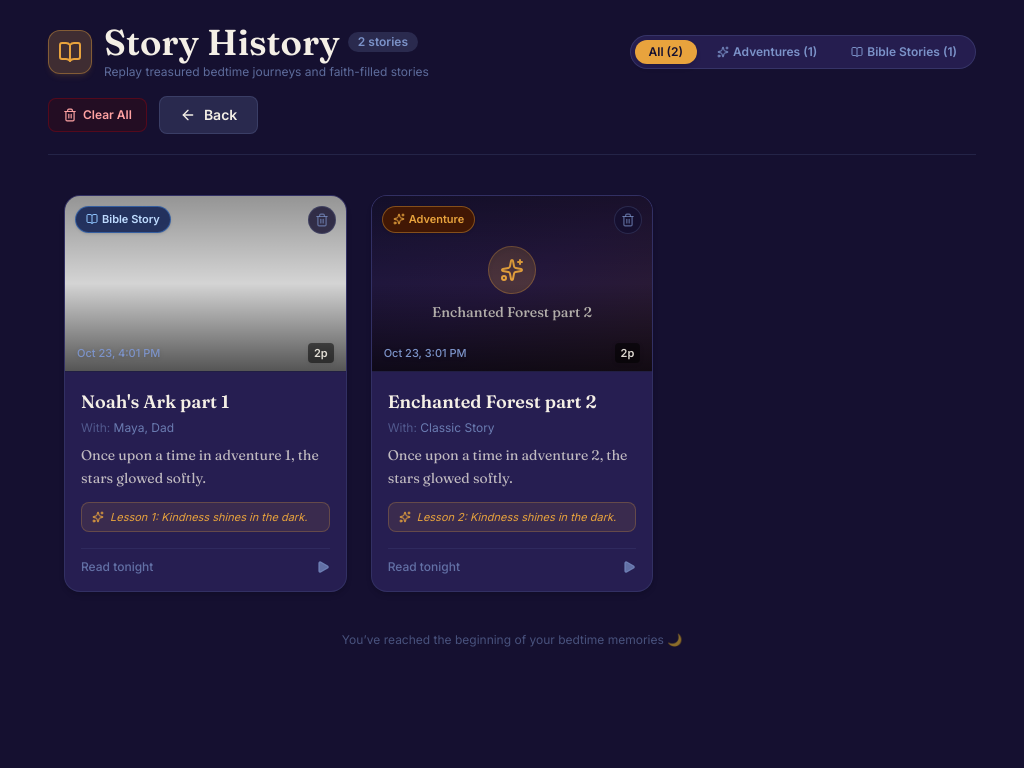
Test: HistoryScreen Full-Screen Grid & Infinite Scroll › clicking delete button on a card opens confirmation modal and deletes that specific story
Click the 1st button titled "Delete story" at point(322, 220), box [308,206,336,234]
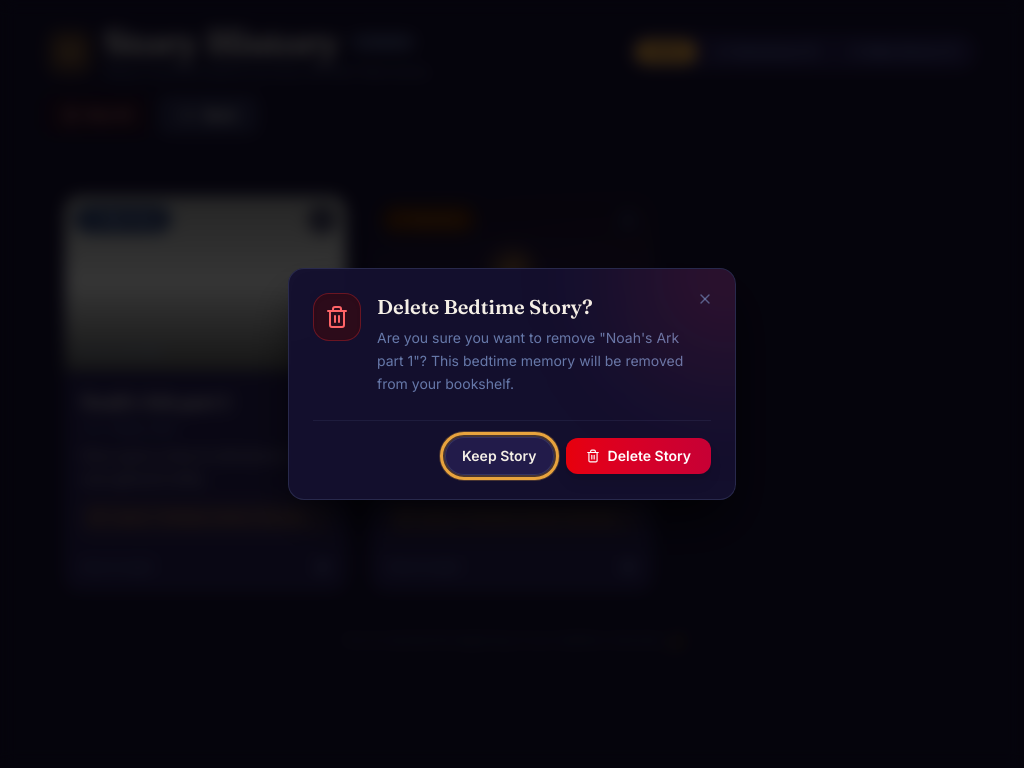
Now the heading "Delete Bedtime Story?" is shown, box [377,294,593,319]
Click the button "Delete Story" at point(638, 456), box [566,438,711,474]
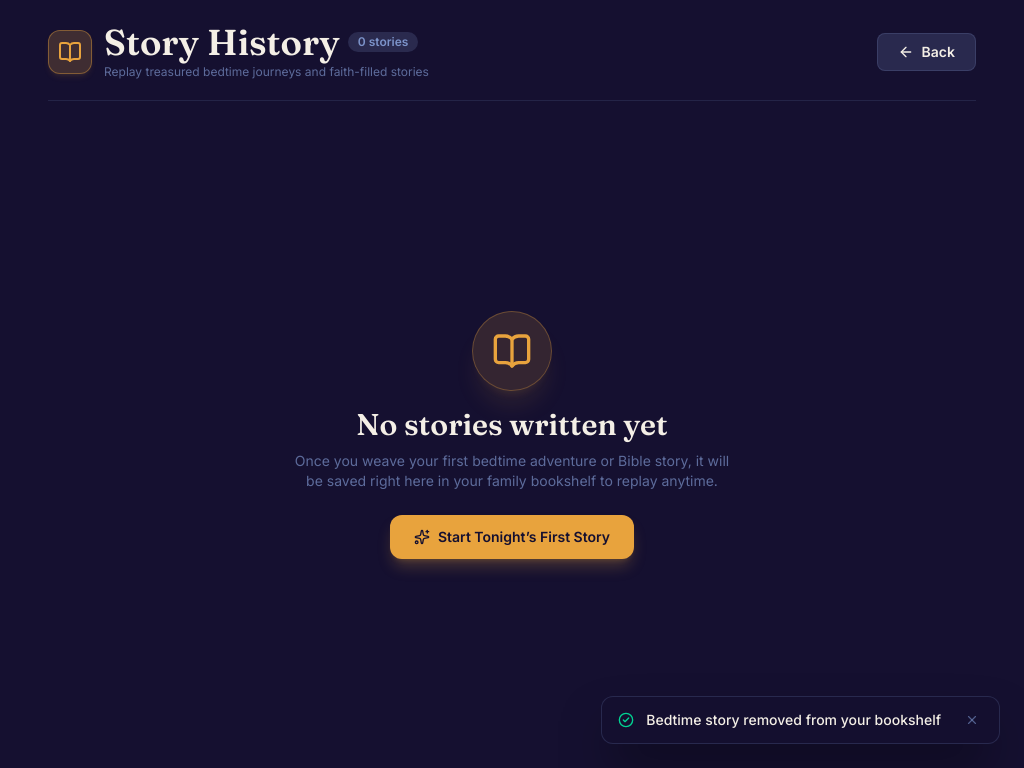
Now the text "Bedtime story removed from your bookshelf" is shown, box [646,710,949,730]
